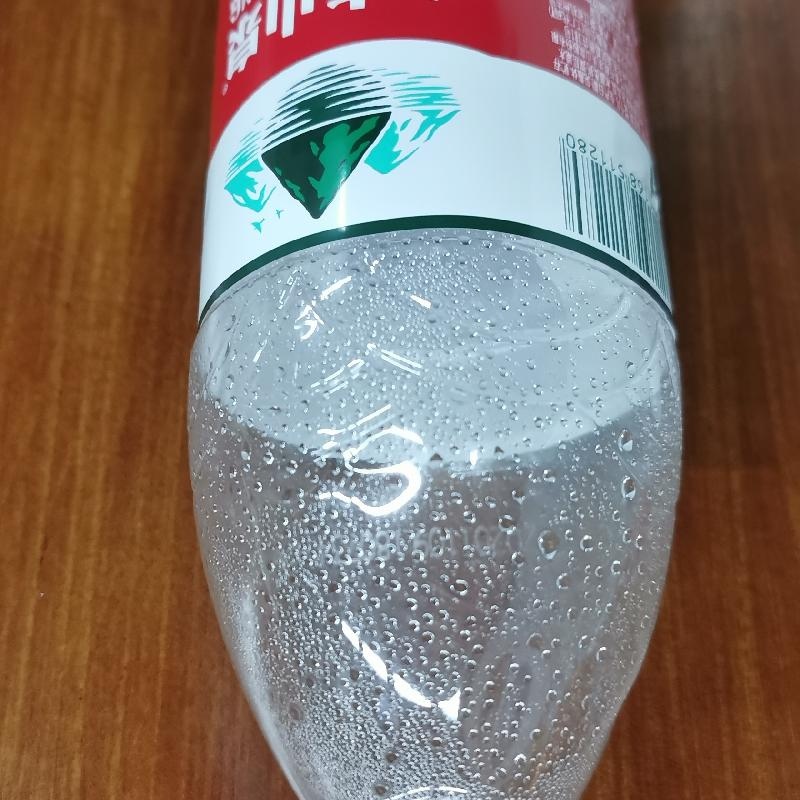bottles: (183, 3, 688, 799)
